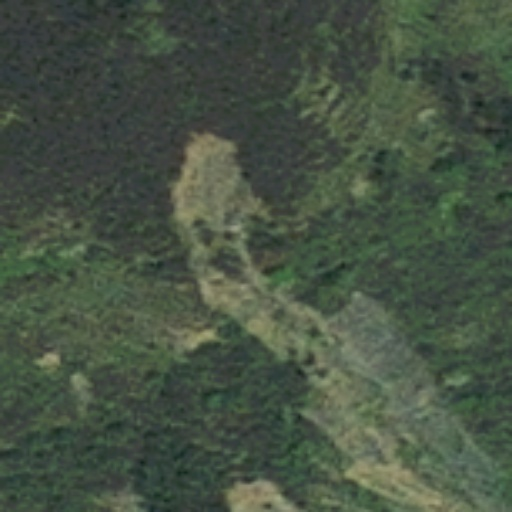landslide: (170, 136, 334, 359)
